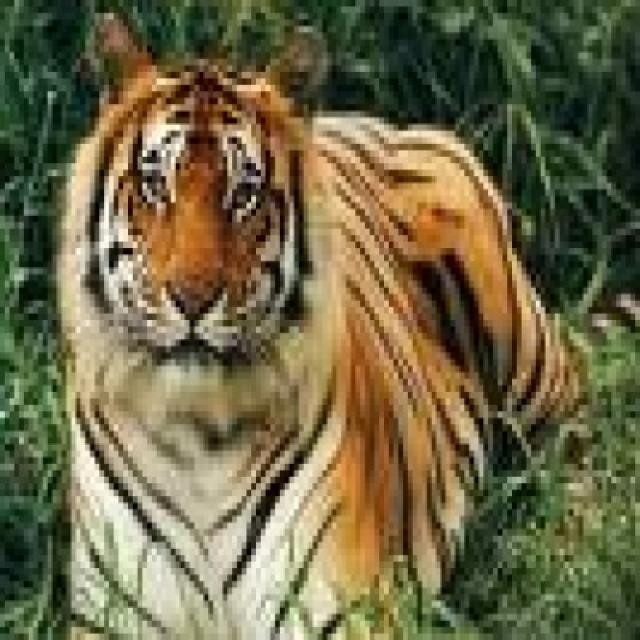Tiger: (58, 13, 590, 638)
